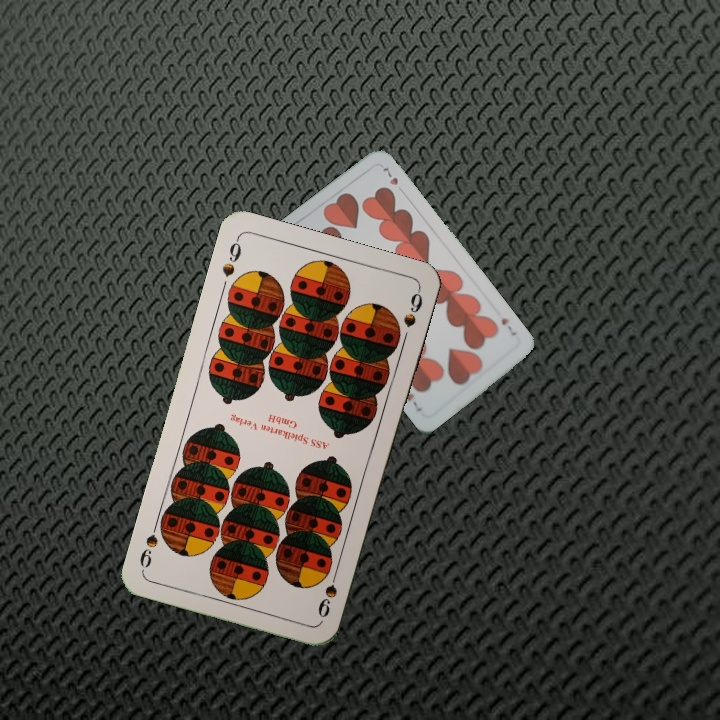H7: (497, 314, 519, 338)
S9: (314, 564, 341, 621), (218, 234, 244, 279)
